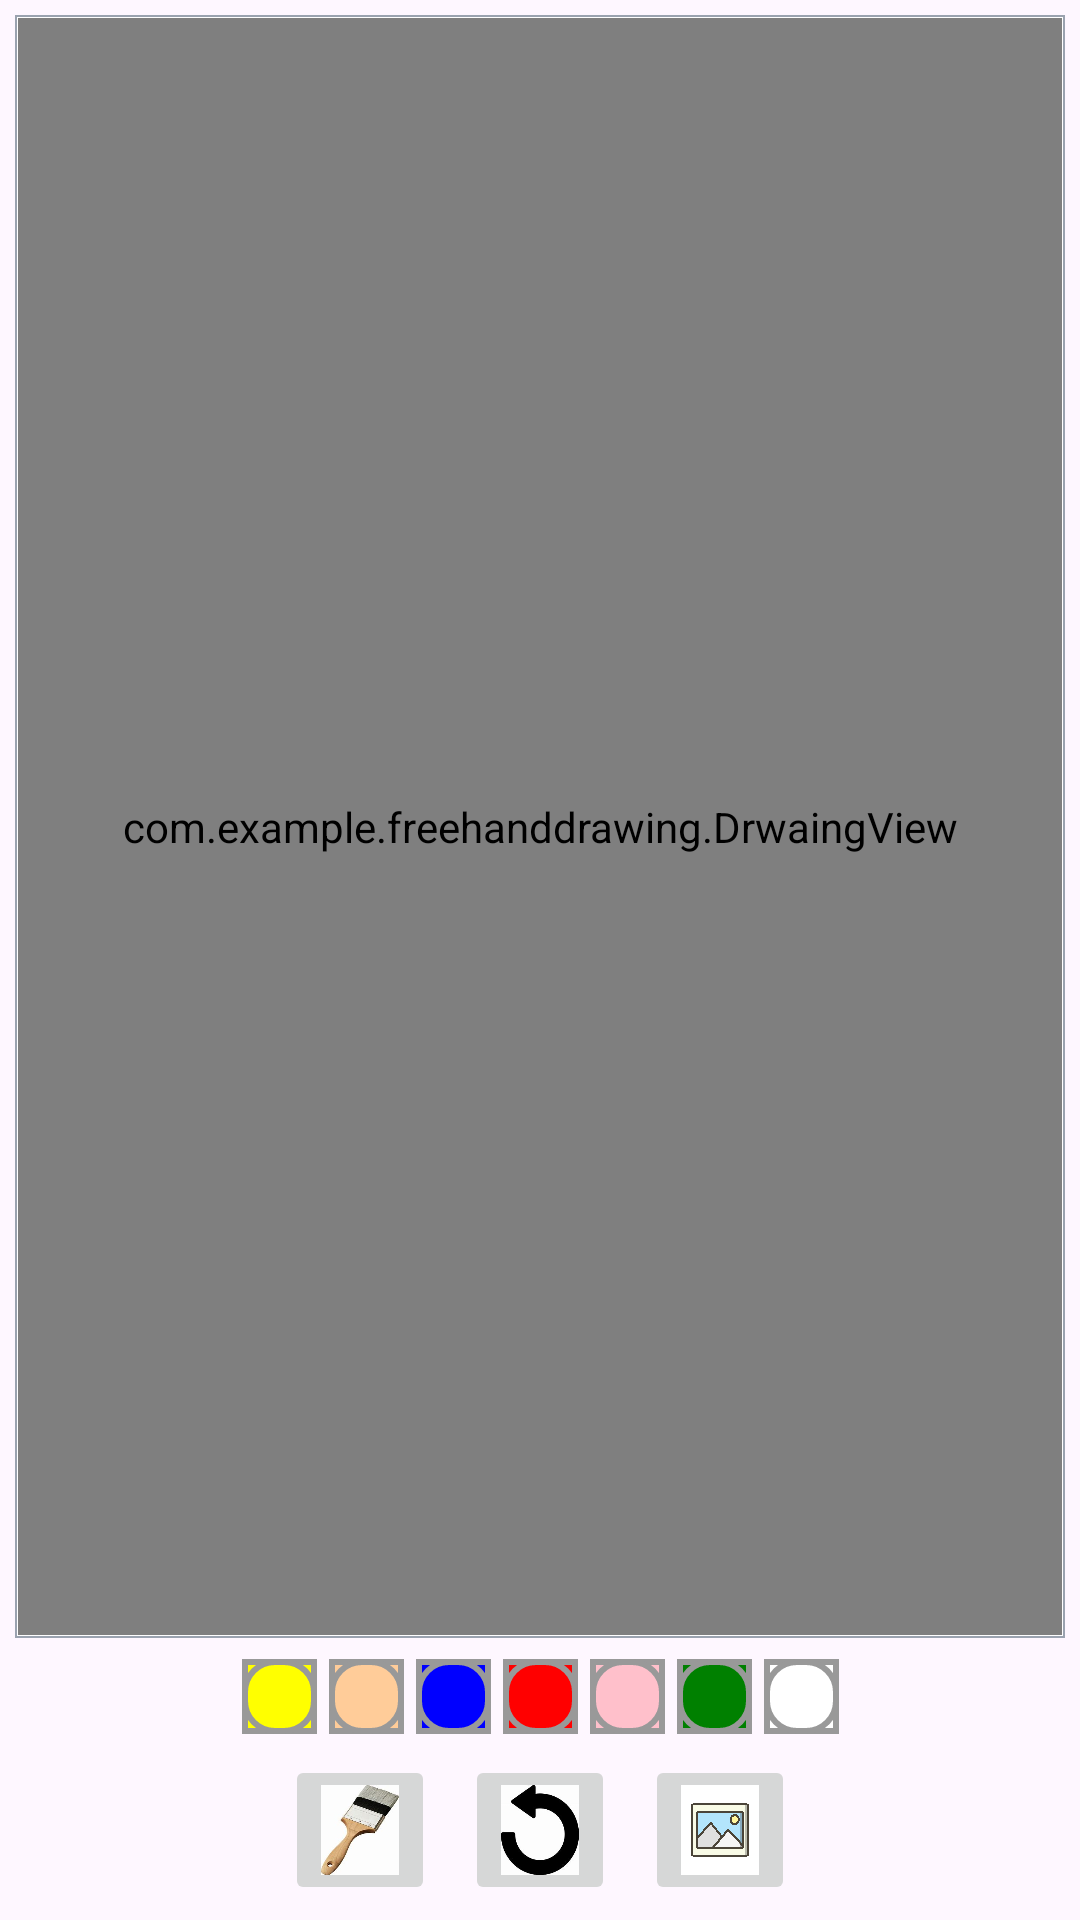

Screen size 1080×1920. Icon name, then its box in pixels as (x1,y1,x2,y2):
brush: (297,1773,423,1887)
imgperm: (657,1773,783,1887)
undo: (477,1773,603,1887)
